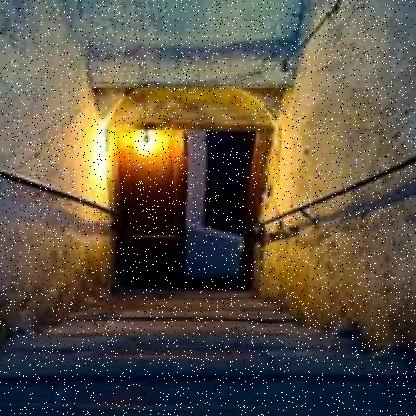stair_down: (5, 297, 360, 393)
